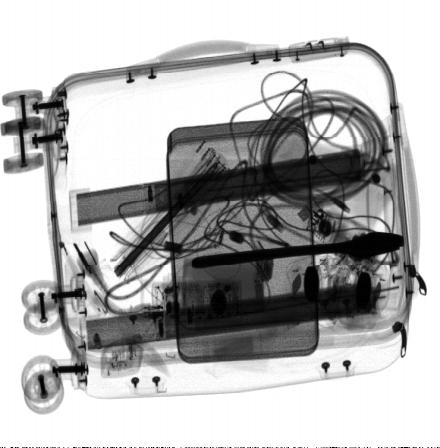Wrench: (191, 232, 404, 268)
